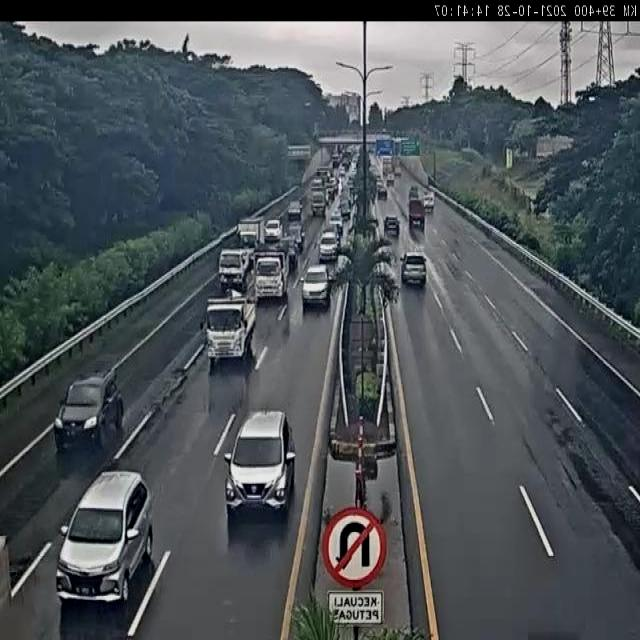Car: (56, 471, 161, 610), (225, 405, 305, 528), (52, 354, 133, 463), (301, 264, 332, 310), (400, 250, 428, 286), (316, 231, 344, 258), (384, 215, 399, 236)
Truck: (194, 299, 266, 376), (237, 193, 309, 263), (217, 248, 255, 296), (253, 252, 288, 303), (408, 198, 426, 232), (310, 186, 326, 217)
